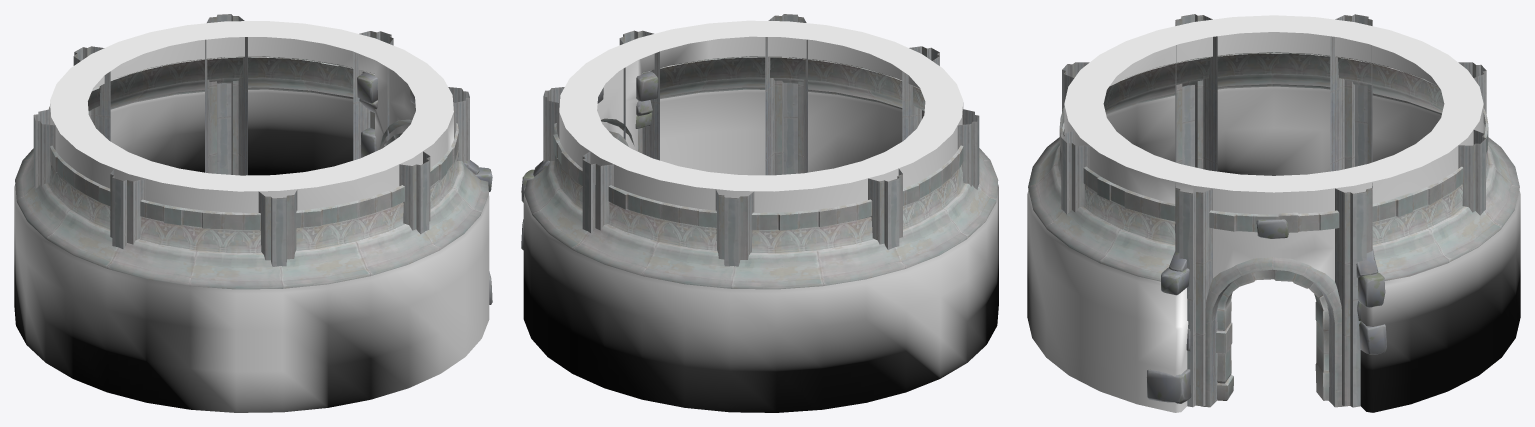
Rendered from SM_TowerB_Bottom.fbx.
The picture shows the model from 3 angles, left to right: view 1: azimuth 30°, elevation 25°; view 2: azimuth 150°, elevation 25°; view 3: azimuth 270°, elevation 25°; orthographic projection. The views are drawn at different scales.
Visible parts, largest first — view 1: SM_TowerB_Bottom_LOD0; view 2: SM_TowerB_Bottom_LOD0; view 3: SM_TowerB_Bottom_LOD0.
Boxes of the visible parts, box(x1,y1,x2,y2) form: SM_TowerB_Bottom_LOD0: box(14, 14, 492, 412); SM_TowerB_Bottom_LOD0: box(521, 14, 998, 412); SM_TowerB_Bottom_LOD0: box(1027, 14, 1520, 412).
Size of what is drawn, in the model's own units: 9.09 by 4.53 by 9.41.
